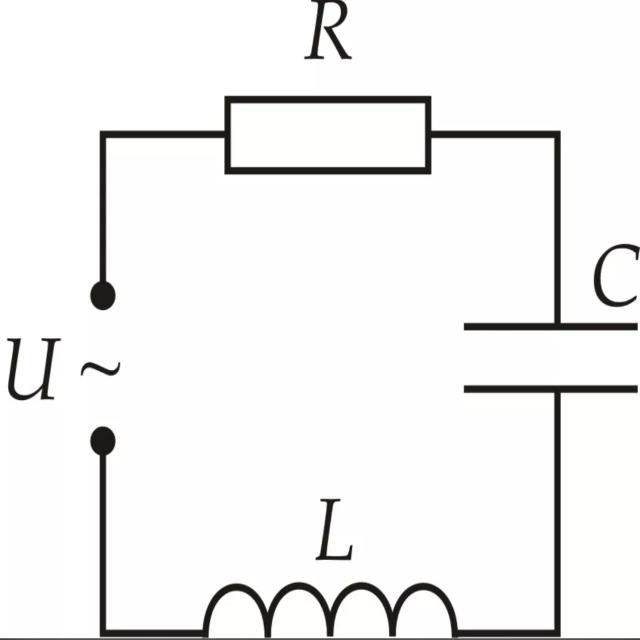cap: (455, 315, 640, 402)
ind: (193, 574, 478, 640)
net: (541, 120, 577, 338), (548, 374, 568, 640), (89, 114, 241, 146), (416, 118, 572, 146), (445, 608, 574, 640), (85, 610, 214, 639)
net_node: (87, 422, 122, 640), (93, 124, 120, 321)
res: (218, 90, 441, 179)
